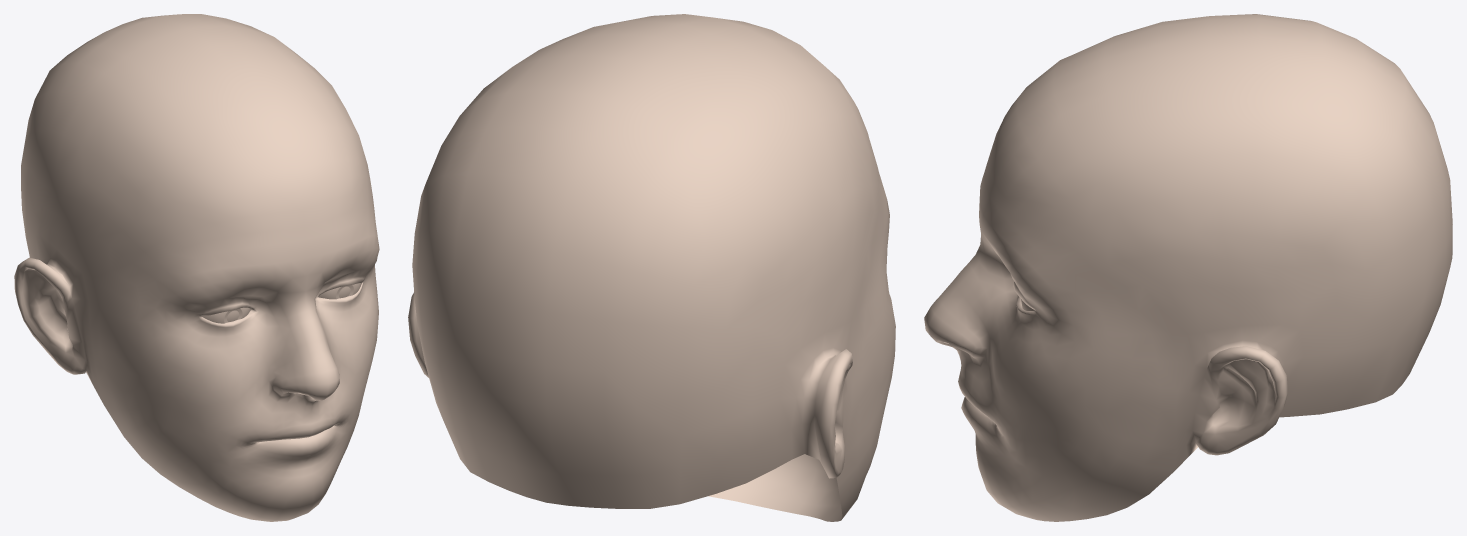
File: facecap.glb
3 renders of one model, left to right at view 1: azimuth 30°, elevation 25°; view 2: azimuth 150°, elevation 25°; view 3: azimuth 270°, elevation 25°, orthographic. The views are drawn at different scales.
Parts seen in each view (by area): view 1: head, eyeLeft; view 2: head; view 3: head.
Boxes of the visible parts, x1,y1,x2,y2 form: head: [14, 14, 379, 521]; eyeLeft: [201, 307, 250, 323]; head: [408, 14, 895, 521]; head: [924, 14, 1452, 521].
Bounding box in the file's own units: 1.9 × 2.34 × 2.36.
